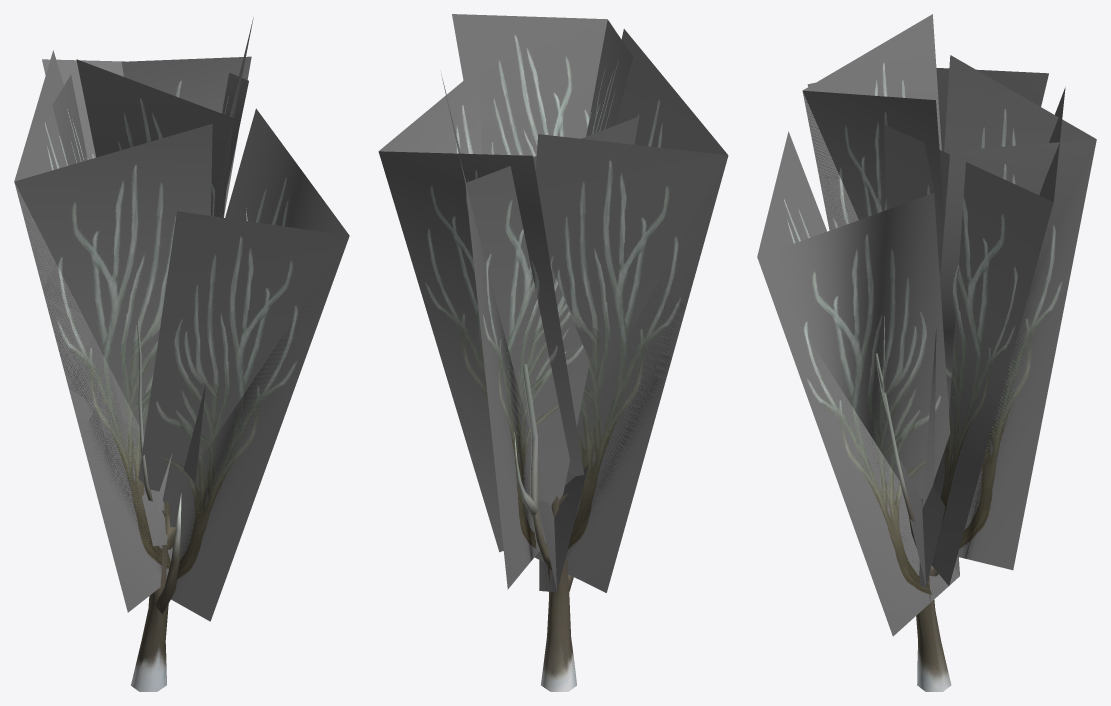
The model's file is dragonblight_bush02.obj.
3 views of the same model, side by side, from view 1: azimuth 30°, elevation 25°; view 2: azimuth 150°, elevation 25°; view 3: azimuth 270°, elevation 25° (orthographic).
Visible parts, largest first — view 1: Geoset1, Geoset0; view 2: Geoset1, Geoset0; view 3: Geoset1, Geoset0.
Part boxes in pixels (x1,y1,x2,y2): Geoset1: (14, 17, 349, 621); Geoset0: (131, 208, 247, 691); Geoset1: (378, 14, 728, 592); Geoset0: (514, 364, 576, 691); Geoset1: (757, 14, 1096, 636); Geoset0: (875, 316, 951, 691).
Bounding box in the file's own units: 1.63 × 3.69 × 1.79.
2 materials, 2 textured.
